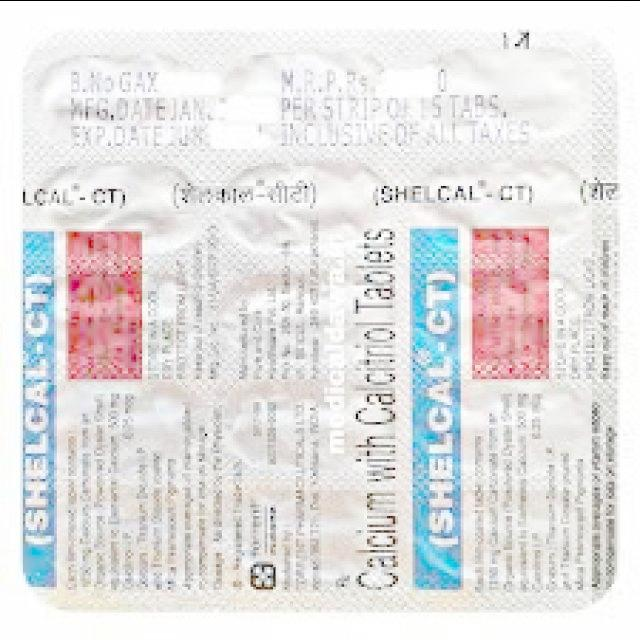authentic: (5, 0, 592, 626)
